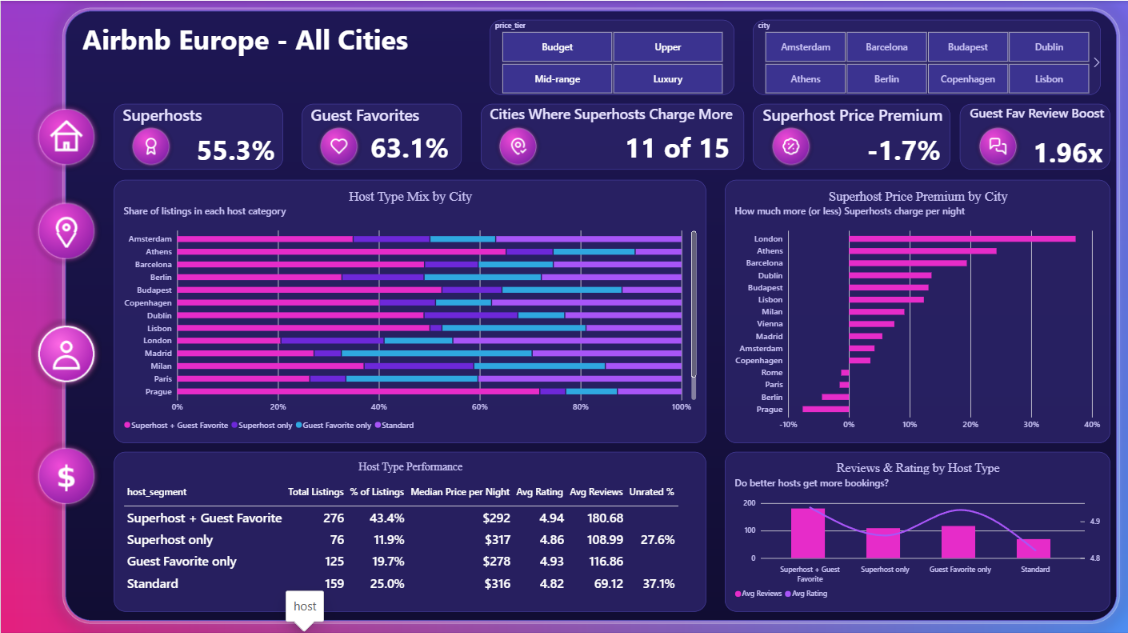

The page's visual inventory and layout, read from the dashboard file:
{"tool":"powerbi","page":{"name":"host","canvas":[1920,1080],"ordinal":2},"visuals":[{"type":"tableEx","title":"Host Type Performance","fields":{"Values":["dim_host_segment.host_segment","dim_city.Total Listings","dim_city.% of Listings","dim_city.Median Price per Night","dim_city.Avg Rating","dim_city.Avg Reviews","dim_city.Unrated %"]},"box":[192,768,1008,272],"z":0},{"type":"clusteredBarChart","title":"Superhost Price Premium by City","fields":{"Category":["dim_city.city"],"Y":["dim_city.Superhost Premium %"]},"box":[1232,304,656,448],"z":1000},{"type":"hundredPercentStackedBarChart","title":"Host Type Mix by City","fields":{"Category":["dim_city.city"],"Series":["dim_host_segment.host_segment"],"Y":["dim_city.Total Listings"]},"box":[192,304,1008,448],"z":2000},{"type":"actionButton","box":[48,128,128,208],"z":3000},{"type":"actionButton","box":[48,288,128,208],"z":4000},{"type":"actionButton","box":[48,496,128,208],"z":5000},{"type":"actionButton","box":[48,704,128,208],"z":6000},{"type":"cardVisual","fields":{"Data":["dim_city.Dashboard Title"]},"box":[80,16,672,96],"z":7000},{"type":"slicer","fields":{"Values":["dim_city.city"]},"box":[1280,32,592,128],"z":8000},{"type":"lineClusteredColumnComboChart","title":"Reviews & Rating by Host Type","fields":{"Category":["dim_host_segment.host_segment"],"Y":["dim_city.Avg Reviews"],"Y2":["dim_city.Avg Rating"]},"box":[1232,768,656,272],"z":9000},{"type":"shape","box":[192,176,288,112],"z":10000},{"type":"cardVisual","fields":{"Data":["dim_city.Superhost %"]},"box":[160,192,480,120],"z":11000},{"type":"textbox","box":[208,176,208,48],"z":12000},{"type":"image","box":[208,208,96,80],"z":13000},{"type":"shape","box":[512,176,272,112],"z":14000},{"type":"cardVisual","fields":{"Data":["dim_city.Guest Favorite %"]},"box":[560,192,272,112],"z":15000},{"type":"textbox","box":[528,176,208,48],"z":16000},{"type":"image","box":[528,208,96,80],"z":17000},{"type":"shape","box":[816,176,448,112],"z":18000},{"type":"cardVisual","fields":{"Data":["dim_city.Cities Superhost Pricier Label"]},"box":[1040,192,224,112],"z":19000},{"type":"textbox","box":[832,176,416,48],"z":20000},{"type":"shape","box":[1280,176,336,112],"z":21000},{"type":"cardVisual","fields":{"Data":["dim_city.Superhost Premium %"]},"box":[1296,192,480,120],"z":22000},{"type":"textbox","box":[1296,176,320,48],"z":23000},{"type":"shape","box":[1632,176,256,112],"z":24000},{"type":"cardVisual","fields":{"Data":["dim_city.Guest Favorite Reviews Multiplier"]},"box":[1712,192,208,128],"z":25000},{"type":"textbox","box":[1648,176,272,48],"z":26000},{"type":"image","box":[1648,208,96,80],"z":27000},{"type":"image","box":[1296,208,96,80],"z":28000},{"type":"image","box":[832,208,96,80],"z":29000},{"type":"slicer","fields":{"Values":["dim_price_tier.price_tier"]},"box":[832,32,416,128],"z":29001}]}

Visuals, with their boxes in screenshot pixels (x1, y1, x2, y2), scaled from the page's 1920x1080 canvas onto the 1128x633 screenshot:
"Host Type Performance" tableEx: [113,450,705,610]
"Superhost Price Premium by City" clusteredBarChart: [724,178,1109,441]
"Host Type Mix by City" hundredPercentStackedBarChart: [113,178,705,441]
actionButton: [28,75,103,197]
actionButton: [28,169,103,291]
actionButton: [28,291,103,413]
actionButton: [28,413,103,535]
cardVisual - dim_city.Dashboard Title: [47,9,442,66]
slicer - dim_city.city: [752,19,1100,94]
"Reviews & Rating by Host Type" lineClusteredColumnComboChart: [724,450,1109,610]
shape: [113,103,282,169]
cardVisual - dim_city.Superhost %: [94,113,376,183]
textbox: [122,103,244,131]
image: [122,122,179,169]
shape: [301,103,461,169]
cardVisual - dim_city.Guest Favorite %: [329,113,489,178]
textbox: [310,103,432,131]
image: [310,122,367,169]
shape: [479,103,743,169]
cardVisual - dim_city.Cities Superhost Pricier Label: [611,113,743,178]
textbox: [489,103,733,131]
shape: [752,103,949,169]
cardVisual - dim_city.Superhost Premium %: [761,113,1043,183]
textbox: [761,103,949,131]
shape: [959,103,1109,169]
cardVisual - dim_city.Guest Favorite Reviews Multiplier: [1006,113,1127,188]
textbox: [968,103,1127,131]
image: [968,122,1025,169]
image: [761,122,818,169]
image: [489,122,545,169]
slicer - dim_price_tier.price_tier: [489,19,733,94]
